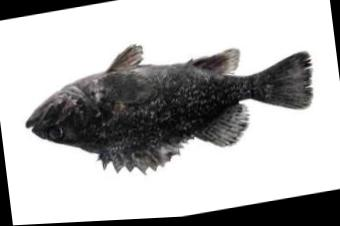fish: (24, 46, 313, 174)
